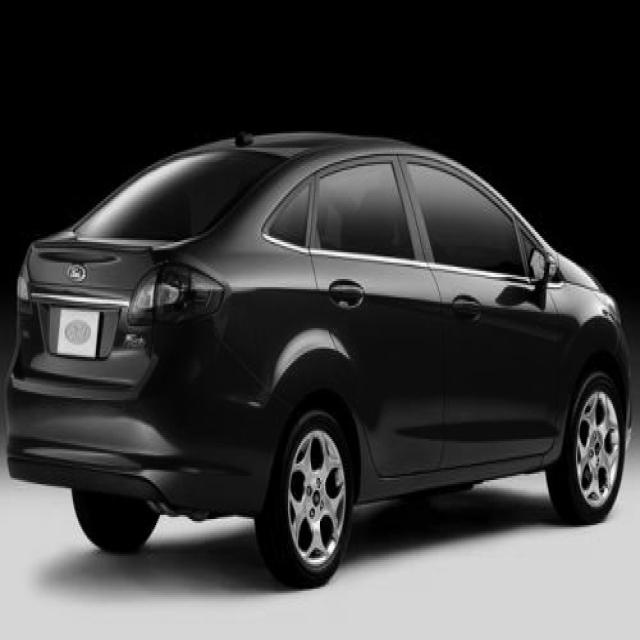car: (4, 129, 632, 589)
